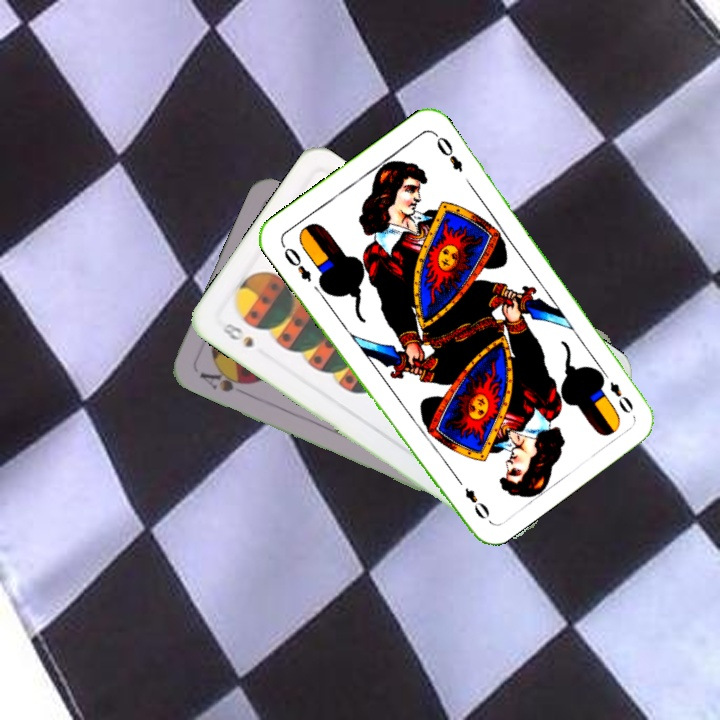EO: (596, 365, 636, 417), (277, 240, 314, 285)
S8: (217, 319, 256, 351)
SA: (195, 364, 253, 395)
